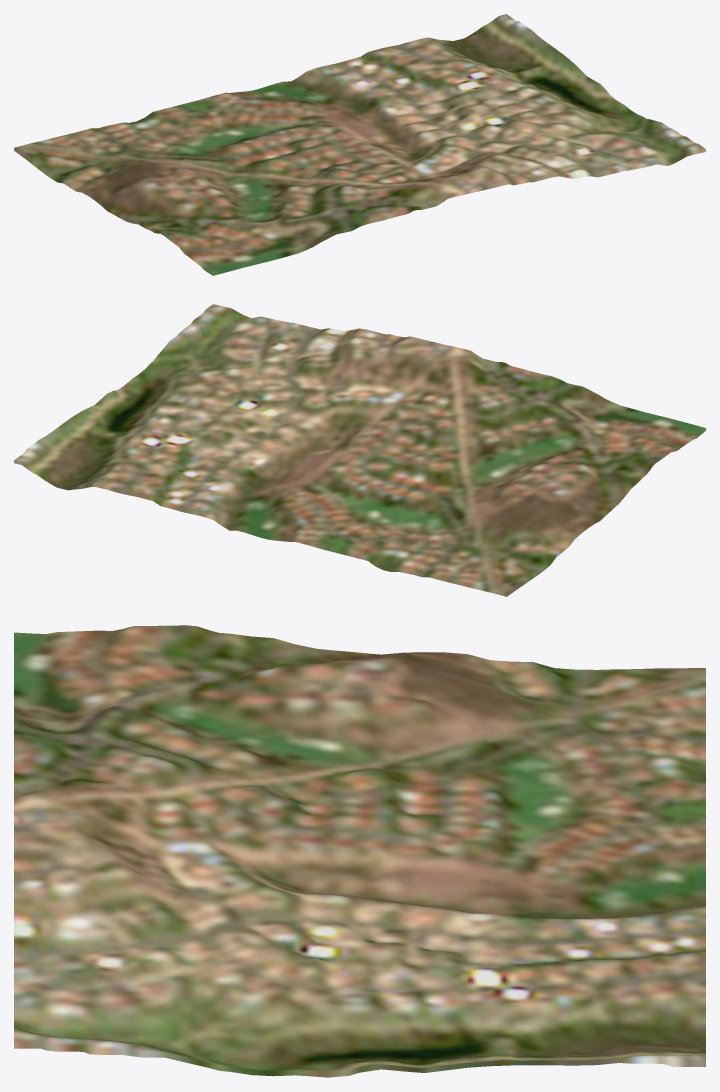
File: terrain_r2_c1_lod1.glb
3 views of the same model, one above another, from view 1: azimuth 30°, elevation 25°; view 2: azimuth 150°, elevation 25°; view 3: azimuth 270°, elevation 25° (orthographic). The views are drawn at different scales.
Visible parts, largest first — view 1: terrain_r2_c1_lod1; view 2: terrain_r2_c1_lod1; view 3: terrain_r2_c1_lod1.
Part boxes in pixels (bbox=[...]): terrain_r2_c1_lod1: bbox=[14, 14, 705, 275]; terrain_r2_c1_lod1: bbox=[14, 304, 705, 596]; terrain_r2_c1_lod1: bbox=[14, 625, 705, 1077].
Bounding box in the file's own units: 1125 × 104 × 787.
1 material, 1 textured.
